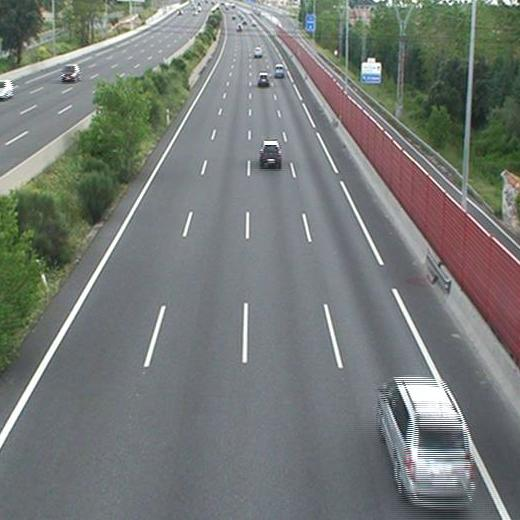car: (380, 377, 475, 506), (260, 141, 281, 163), (274, 65, 285, 77), (258, 73, 270, 84), (254, 47, 264, 56)
